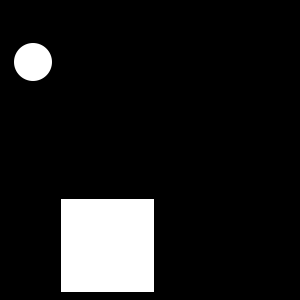circle: (61, 199, 154, 292)
rectangle: (14, 43, 52, 81)
